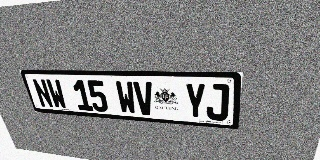1: (71, 80, 94, 111)
5: (86, 80, 109, 112)
J: (206, 83, 229, 121)
N: (31, 79, 54, 108)
V: (133, 81, 155, 116)
W: (115, 81, 137, 114), (45, 79, 68, 109)
Y: (184, 83, 206, 119)
